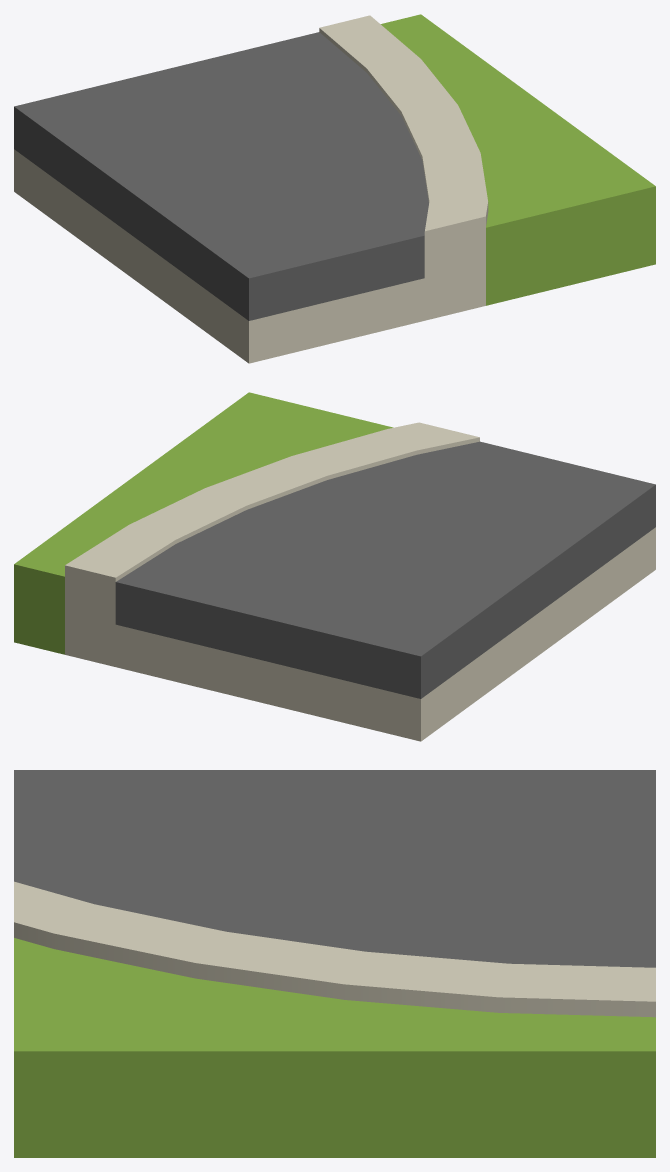
File: road-one-way-curve-sidewalk-grass-2.obj
3 renders of one model, top to bottom at view 1: azimuth 30°, elevation 25°; view 2: azimuth 150°, elevation 25°; view 3: azimuth 270°, elevation 25°, orthographic. The views are drawn at different scales.
Parts seen in each view (by area): view 1: Mesh1_Group1_Model.056; view 2: Mesh1_Group1_Model.056; view 3: Mesh1_Group1_Model.056.
Boxes of the visible parts, x1,y1,x2,y2 form: Mesh1_Group1_Model.056: (14,14,655,363); Mesh1_Group1_Model.056: (14,392,655,741); Mesh1_Group1_Model.056: (14,770,655,1157).
Bounding box in the file's own units: 3 × 0.63 × 3.
